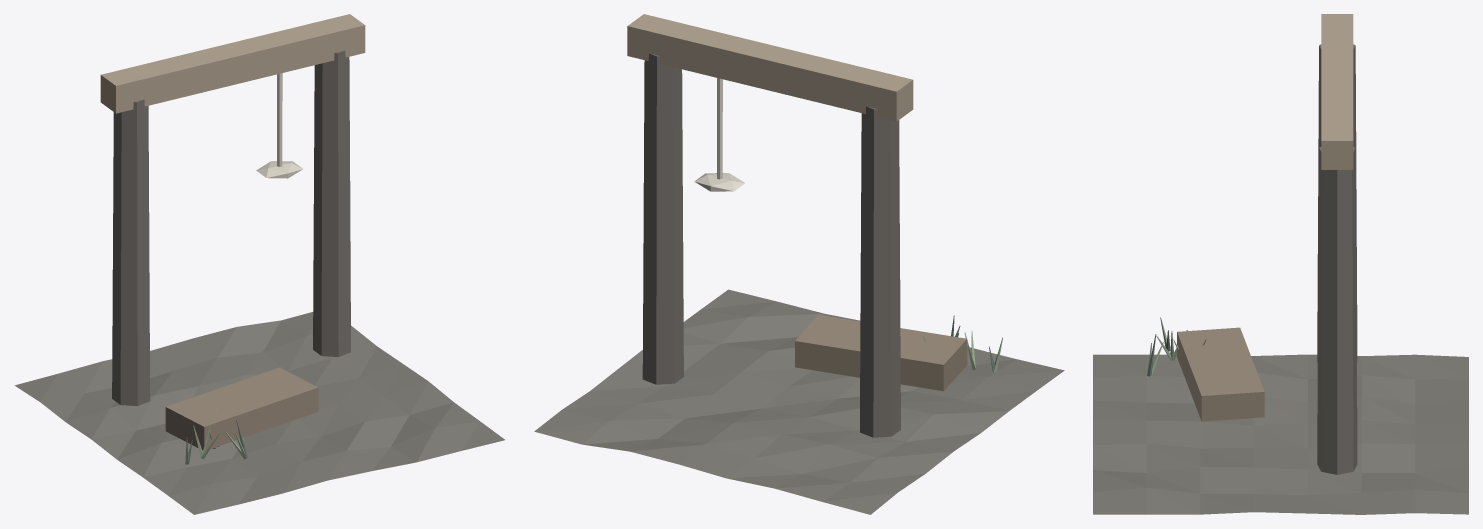
Rendered from empty_gallows.glb.
3 renders of one model, left to right at view 1: azimuth 30°, elevation 25°; view 2: azimuth 150°, elevation 25°; view 3: azimuth 270°, elevation 25°, orthographic. The views are drawn at different scales.
Parts seen in each view (by area): view 1: material_00, material_01, material_02, material_04, material_03; view 2: material_00, material_01, material_02, material_04, material_03; view 3: material_00, material_01, material_04, material_02, material_05.
Boxes of the visible parts, <box> form: material_00: <box>14,312,504,514</box>; material_01: <box>112,50,350,406</box>; material_02: <box>100,14,365,113</box>; material_04: <box>165,367,318,450</box>; material_03: <box>256,73,302,178</box>; material_00: <box>534,289,1064,514</box>; material_01: <box>642,53,900,437</box>; material_02: <box>627,14,913,121</box>; material_04: <box>795,315,967,391</box>; material_03: <box>694,78,744,191</box>; material_00: <box>1093,354,1468,514</box>; material_01: <box>1317,44,1357,474</box>; material_04: <box>1177,327,1264,421</box>; material_02: <box>1321,14,1353,169</box>; material_05: <box>1147,317,1187,376</box>.
Size of the model in its own units: 2 by 2.12 by 2.
